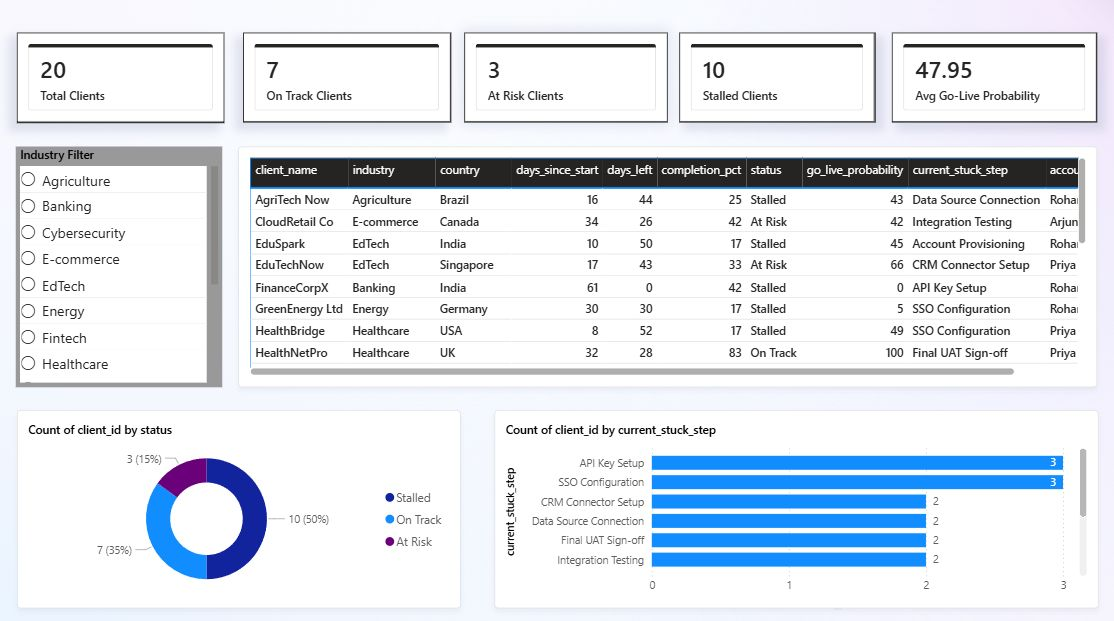

The dashboard page shown, as its layout file describes it:
{"tool":"powerbi","page":{"name":"Page 1","canvas":[1280,720],"ordinal":0},"visuals":[{"type":"cardVisual","fields":{"Data":["app_dataset - dashboard_data.Avg Go-Live Probability"]},"box":[1023.5,44,234.8,102.7],"z":0},{"type":"cardVisual","fields":{"Data":["app_dataset - dashboard_data.On Track Clients"]},"box":[281.3,44,237.2,102.7],"z":2000},{"type":"cardVisual","fields":{"Data":["app_dataset - dashboard_data.At Risk Clients"]},"box":[534.4,44,232.3,102.7],"z":3000},{"type":"cardVisual","fields":{"Data":["app_dataset - dashboard_data.Stalled Clients"]},"box":[780.2,44,223.8,102.7],"z":4000},{"type":"tableEx","fields":{"Values":["app_dataset - dashboard_data.client_name","app_dataset - dashboard_data.industry","app_dataset - dashboard_data.country","app_dataset - dashboard_data.days_since_start","app_dataset - dashboard_data.days_left","app_dataset - dashboard_data.completion_pct","app_dataset - dashboard_data.status","app_dataset - dashboard_data.go_live_probability","app_dataset - dashboard_data.current_stuck_step","app_dataset - dashboard_data.account_manager"]},"box":[276.4,173.6,981.9,275.1],"z":5000},{"type":"donutChart","fields":{"Category":["app_dataset - dashboard_data.status"],"Y":["CountNonNull(app_dataset - dashboard_data.client_id)"]},"box":[23.2,475.7,507.5,226.2],"z":6000},{"type":"clusteredBarChart","fields":{"Category":["app_dataset - dashboard_data.current_stuck_step"],"Y":["CountNonNull(app_dataset - dashboard_data.client_id)"]},"box":[568.3,475,690,226.7],"z":7000},{"type":"listSlicer","title":"Industry Filter","fields":{"Values":["app_dataset - dashboard_data.industry"]},"box":[22,173.6,236,275.1],"z":8000},{"type":"cardVisual","fields":{"Data":["app_dataset - dashboard_data.Total Clients"]},"box":[22.9,44.3,237.1,102.9],"z":8001}]}

Visuals, with their boxes in screenshot pixels (x1, y1, x2, y2), scaled from the page's 1280x720 canvas onto the 1114x621 screenshot:
cardVisual - app_dataset - dashboard_data.Avg Go-Live Probability: [891,38,1095,127]
cardVisual - app_dataset - dashboard_data.On Track Clients: [245,38,451,127]
cardVisual - app_dataset - dashboard_data.At Risk Clients: [465,38,667,127]
cardVisual - app_dataset - dashboard_data.Stalled Clients: [679,38,874,127]
tableEx - app_dataset - dashboard_data.client_name x app_dataset - dashboard_data.industry: [241,150,1095,387]
donutChart - app_dataset - dashboard_data.status x CountNonNull(app_dataset - dashboard_data.client_id): [20,410,462,605]
clusteredBarChart - app_dataset - dashboard_data.current_stuck_step x CountNonNull(app_dataset - dashboard_data.client_id): [495,410,1095,605]
"Industry Filter" listSlicer: [19,150,225,387]
cardVisual - app_dataset - dashboard_data.Total Clients: [20,38,226,127]
